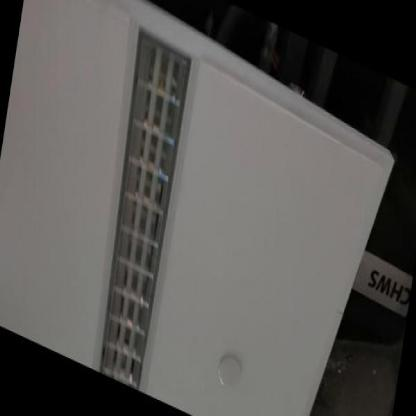light_off: (79, 4, 207, 397)
